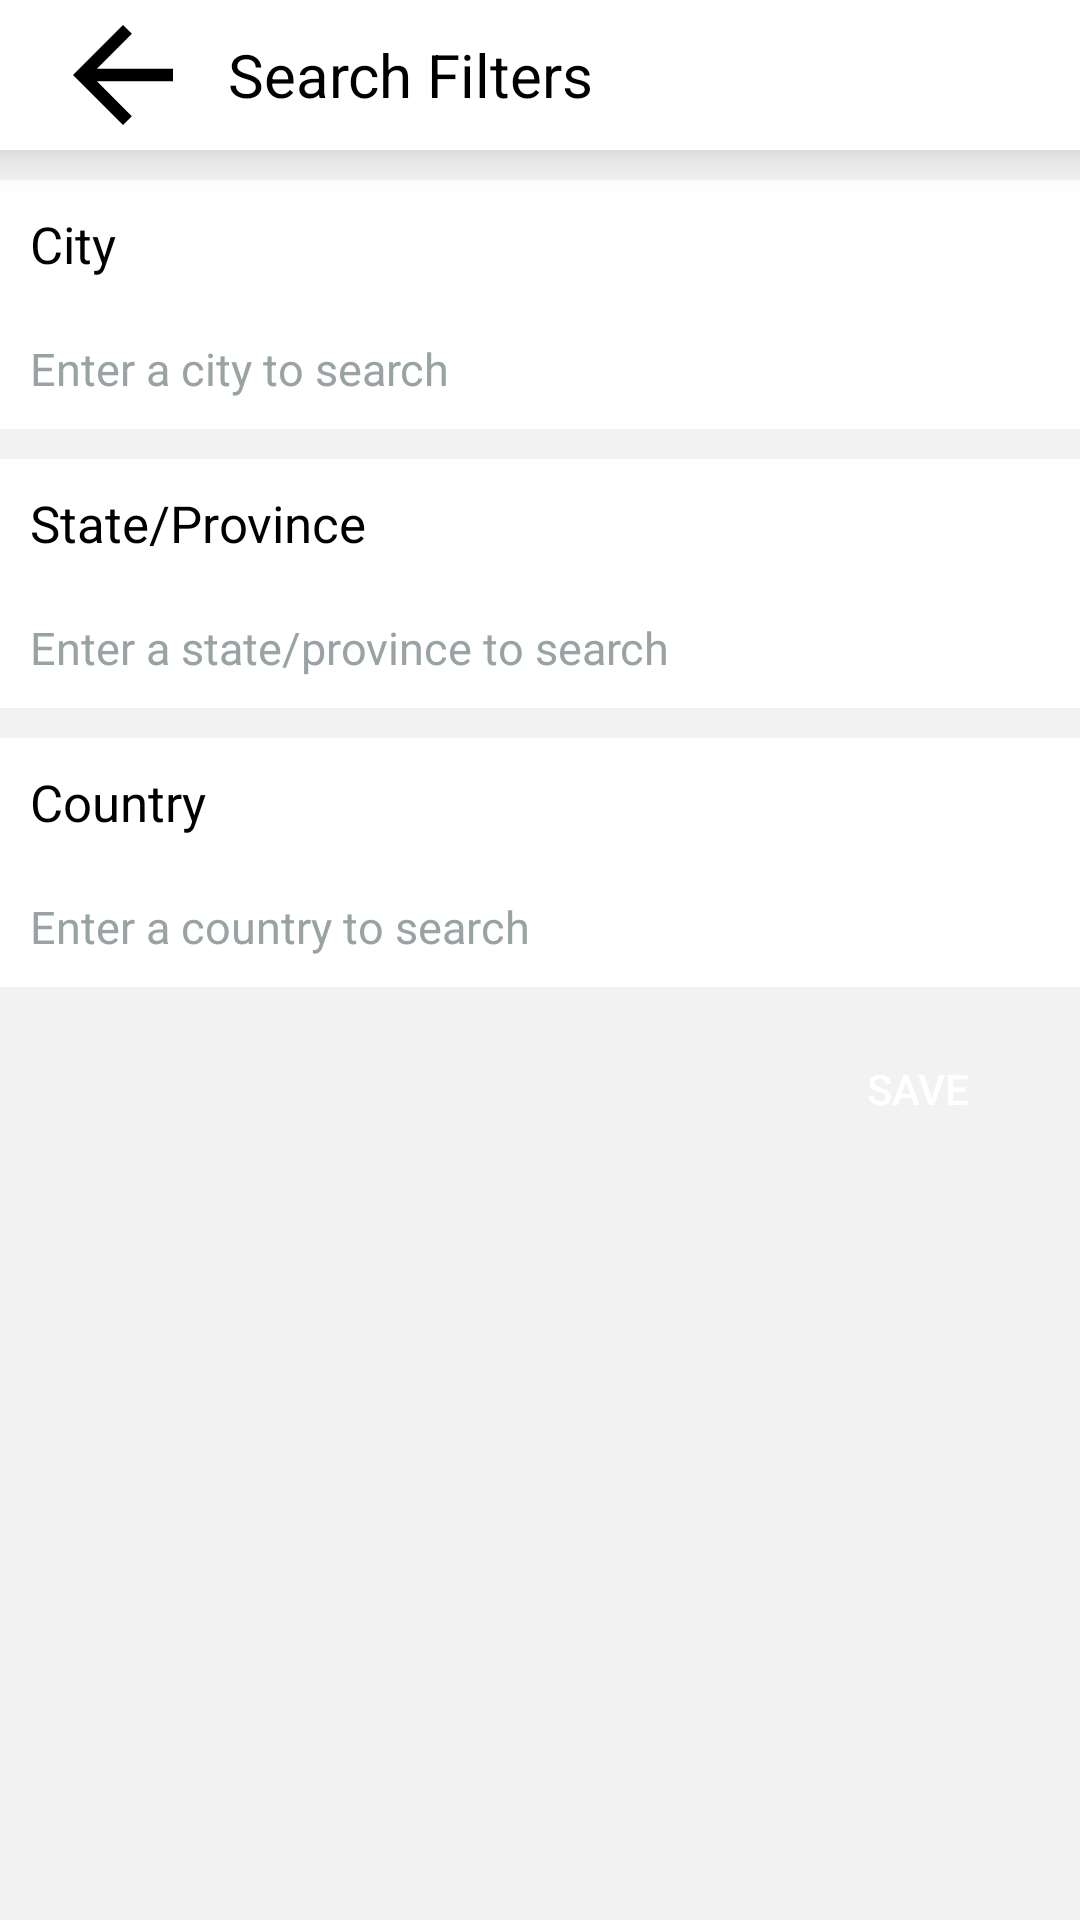

Icon bounding boxes for this 1080px×1920px phone screenshot, format (x1, y1, x2, y2):
arrow back: (73, 25, 173, 125)
